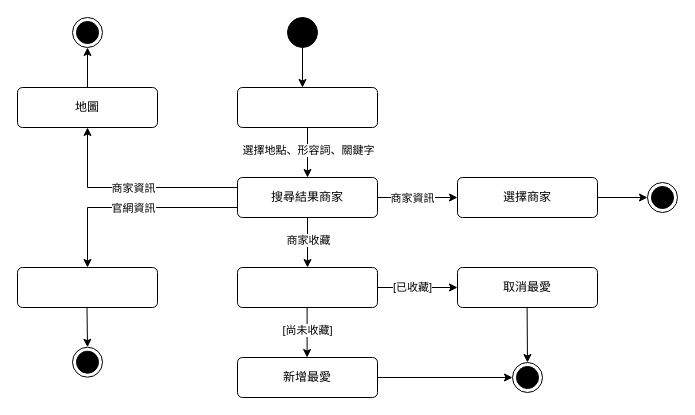
Image size: 695x415. Some labels were removed from this diagram. Here are the shapes that lost their labels. From the top down, the centre of each, then its label:
[307,107]: 登入中
[87,287]: 官網
[307,287]: 最愛
